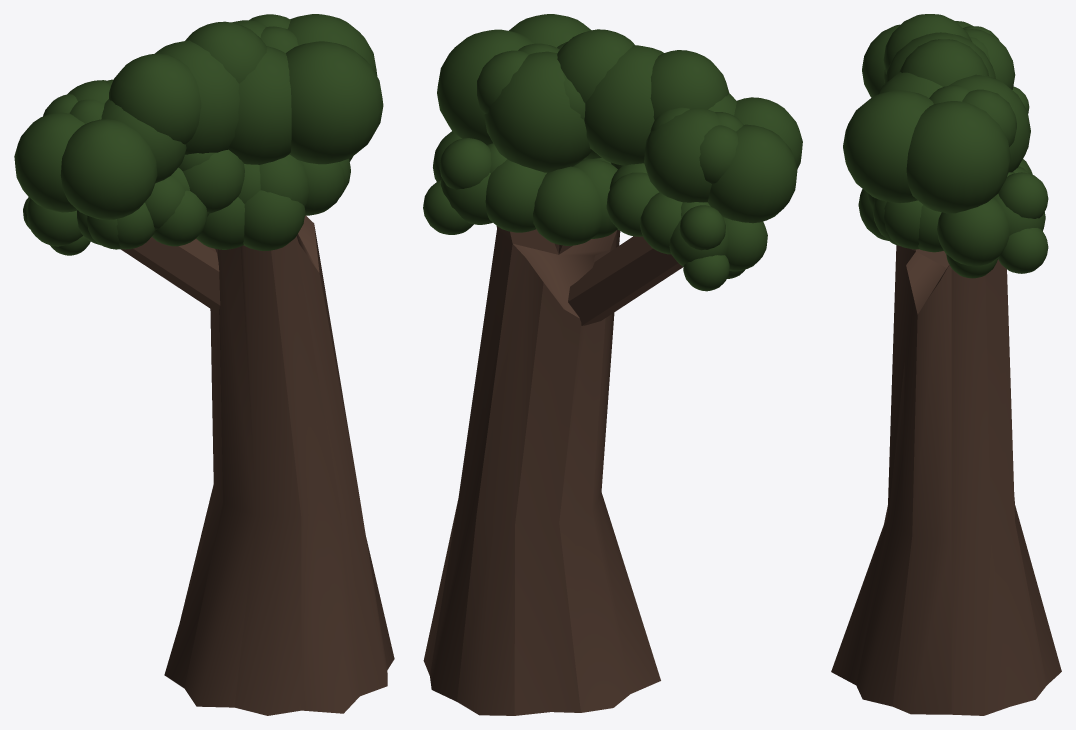
The model's file is tree2.fbx.
The picture shows the model from 3 angles, left to right: view 1: azimuth 30°, elevation 25°; view 2: azimuth 150°, elevation 25°; view 3: azimuth 270°, elevation 25°; orthographic projection. The views are drawn at different scales.
Visible parts, largest first — view 1: polySurface63, polySurface84, pasted__polySurface101 (×2), polySurface107, polySurface81, polySurface118, polySurface106, polySurface86, polySurface78, polySurface68, polySurface88, polySurface101 (+12 smaller); view 2: polySurface63, polySurface76, pasted__polySurface101 (×2), polySurface118, polySurface106, polySurface86, polySurface88, polySurface108, polySurface115, polySurface64, polySurface105, polySurface70 (+12 smaller); view 3: polySurface63, polySurface88, polySurface84, pasted__polySurface101 (×2), polySurface71, polySurface76, polySurface70, polySurface77, polySurface87, polySurface79, polySurface107, polySurface118 (+8 smaller).
Part boxes in pixels (x1,y1,x2,y2): polySurface63: (164,215,394,715); polySurface84: (286,41,383,164); pasted__polySurface101 (×2): (109,21,266,144); polySurface107: (60,119,157,219); polySurface81: (229,46,291,164); polySurface118: (154,40,239,154); polySurface106: (14,112,84,212); polySurface86: (121,237,220,313); polySurface78: (243,190,305,250); polySurface68: (183,149,244,213); polySurface88: (288,14,377,75); polySurface101: (101,99,186,183); polySurface63: (423,226,660,715); polySurface76: (484,51,591,172); pasted__polySurface101 (×2): (557,29,729,119); polySurface118: (584,45,663,165); polySurface106: (708,124,797,223); polySurface86: (568,236,682,325); polySurface88: (437,29,533,144); polySurface108: (644,108,720,202); polySurface115: (533,166,601,245); polySurface64: (485,159,546,232); polySurface105: (606,172,659,236); polySurface70: (439,138,491,189); polySurface63: (831,245,1061,715); polySurface88: (906,101,1010,213); polySurface84: (843,90,933,203); pasted__polySurface101 (×2): (883,14,988,86); polySurface71: (937,198,1009,265); polySurface76: (949,74,1030,172); polySurface70: (998,172,1048,218); polySurface77: (997,228,1048,273); polySurface87: (883,200,922,249); polySurface79: (962,89,1016,146); polySurface107: (862,24,900,97); polySurface118: (884,32,995,83).
Bounding box in the file's own units: 262 × 463 × 161.
